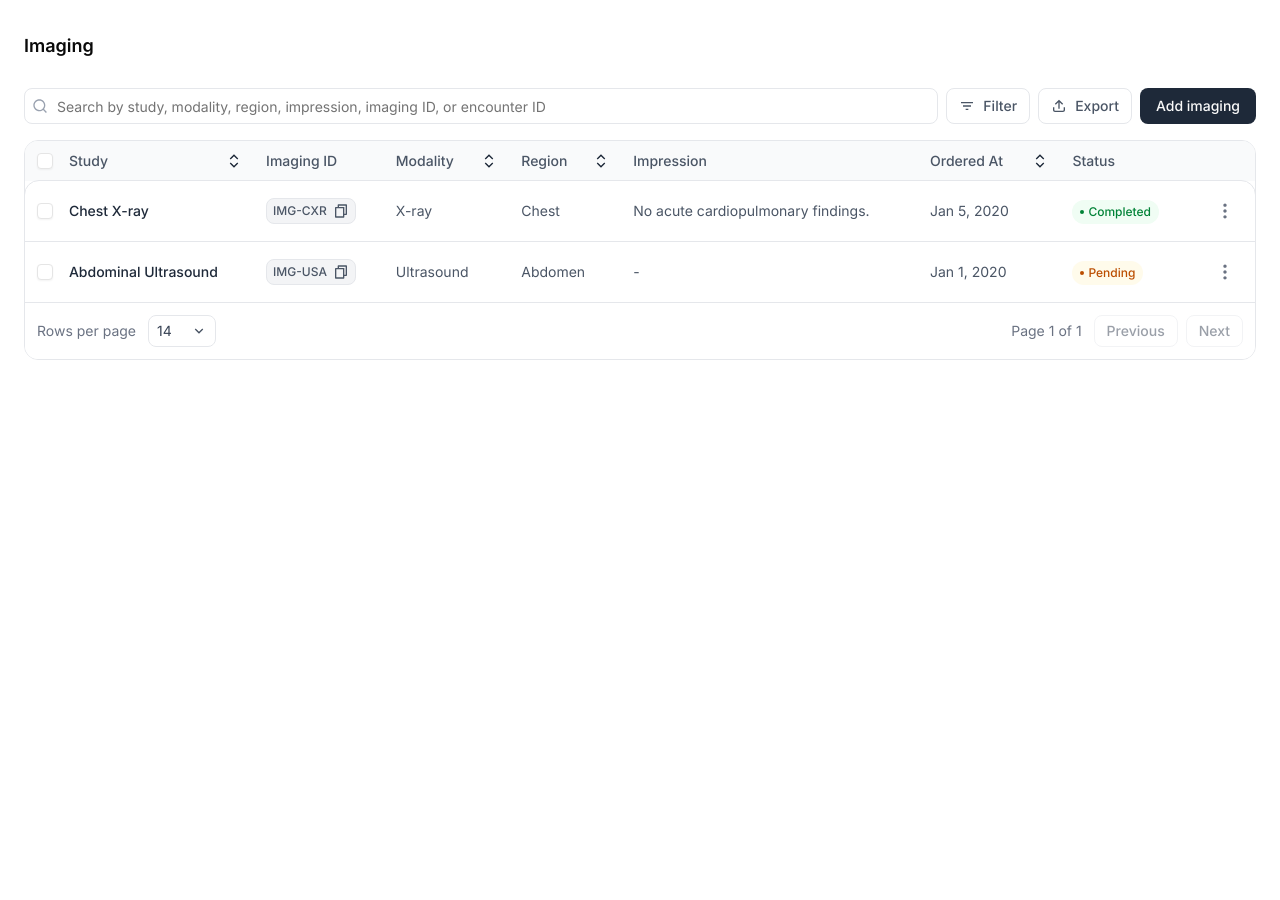
Test case: Imaging table › opens the details drawer for the row chosen from its action menu
Click the button named "Open actions for Chest X-ray" at (1225, 211), box [1207, 193, 1243, 229]
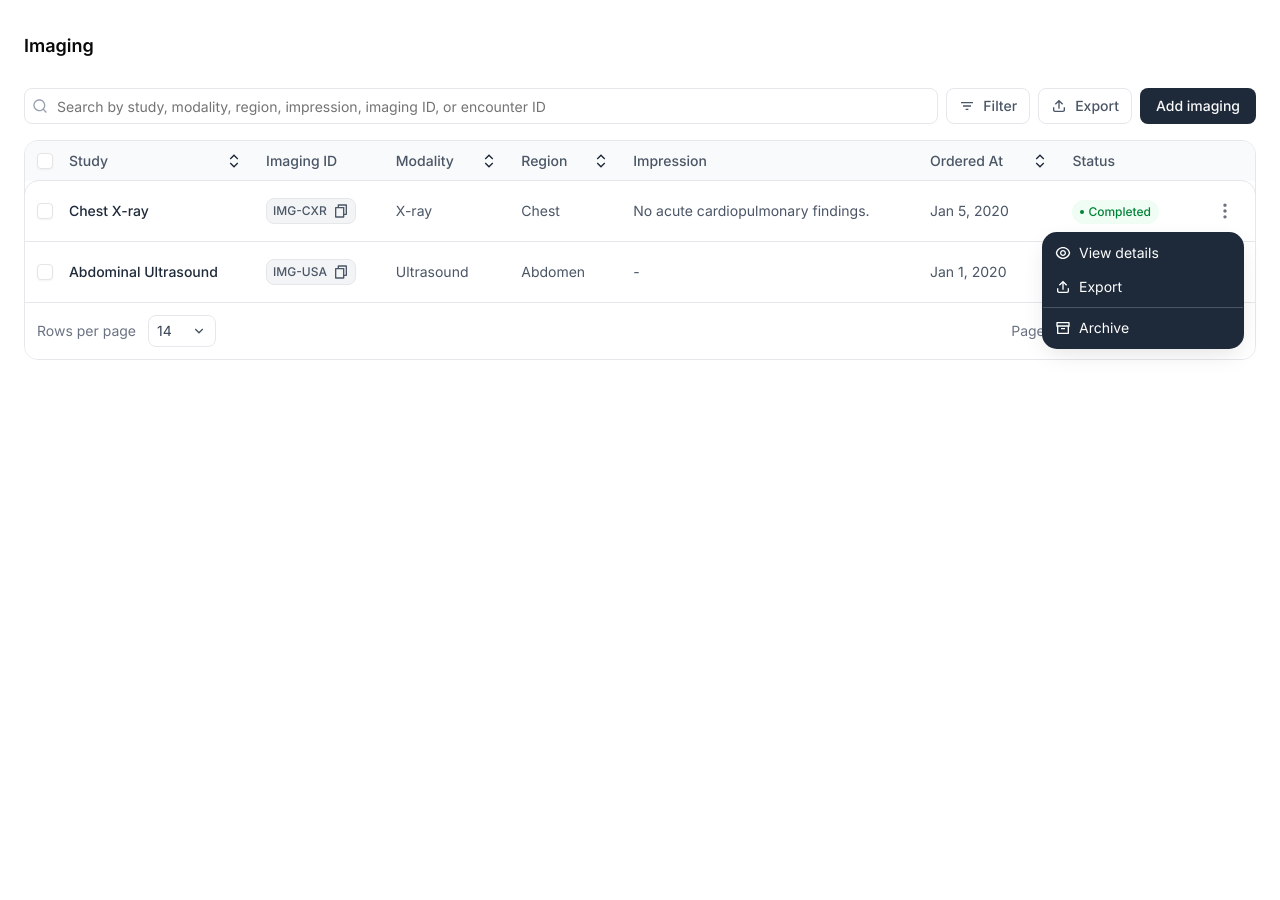
Click the menu item "View details" at (1107, 252), box [1055, 244, 1159, 261]
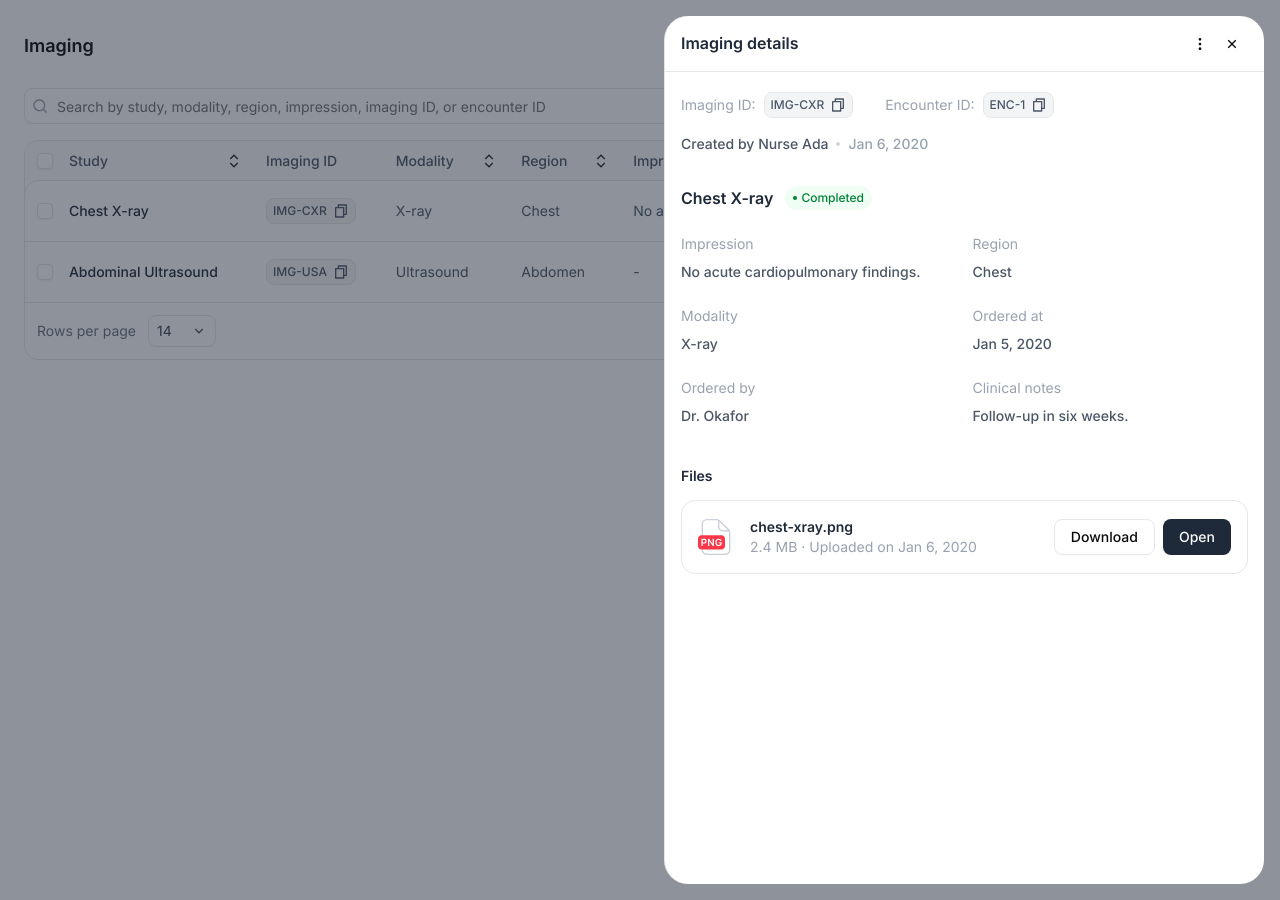
Check: the heading "Chest X-ray" is shown, box [681, 186, 773, 210]
Check: the text "No acute cardiopulmonary findings." is shown, box [681, 262, 956, 282]
Check: the text "Chest" is shown, box [972, 263, 1012, 280]
